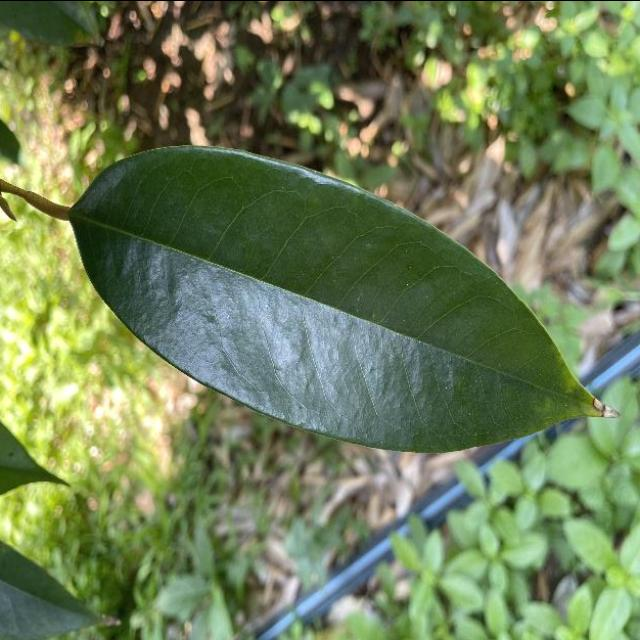No Disease: (58, 137, 624, 462)
